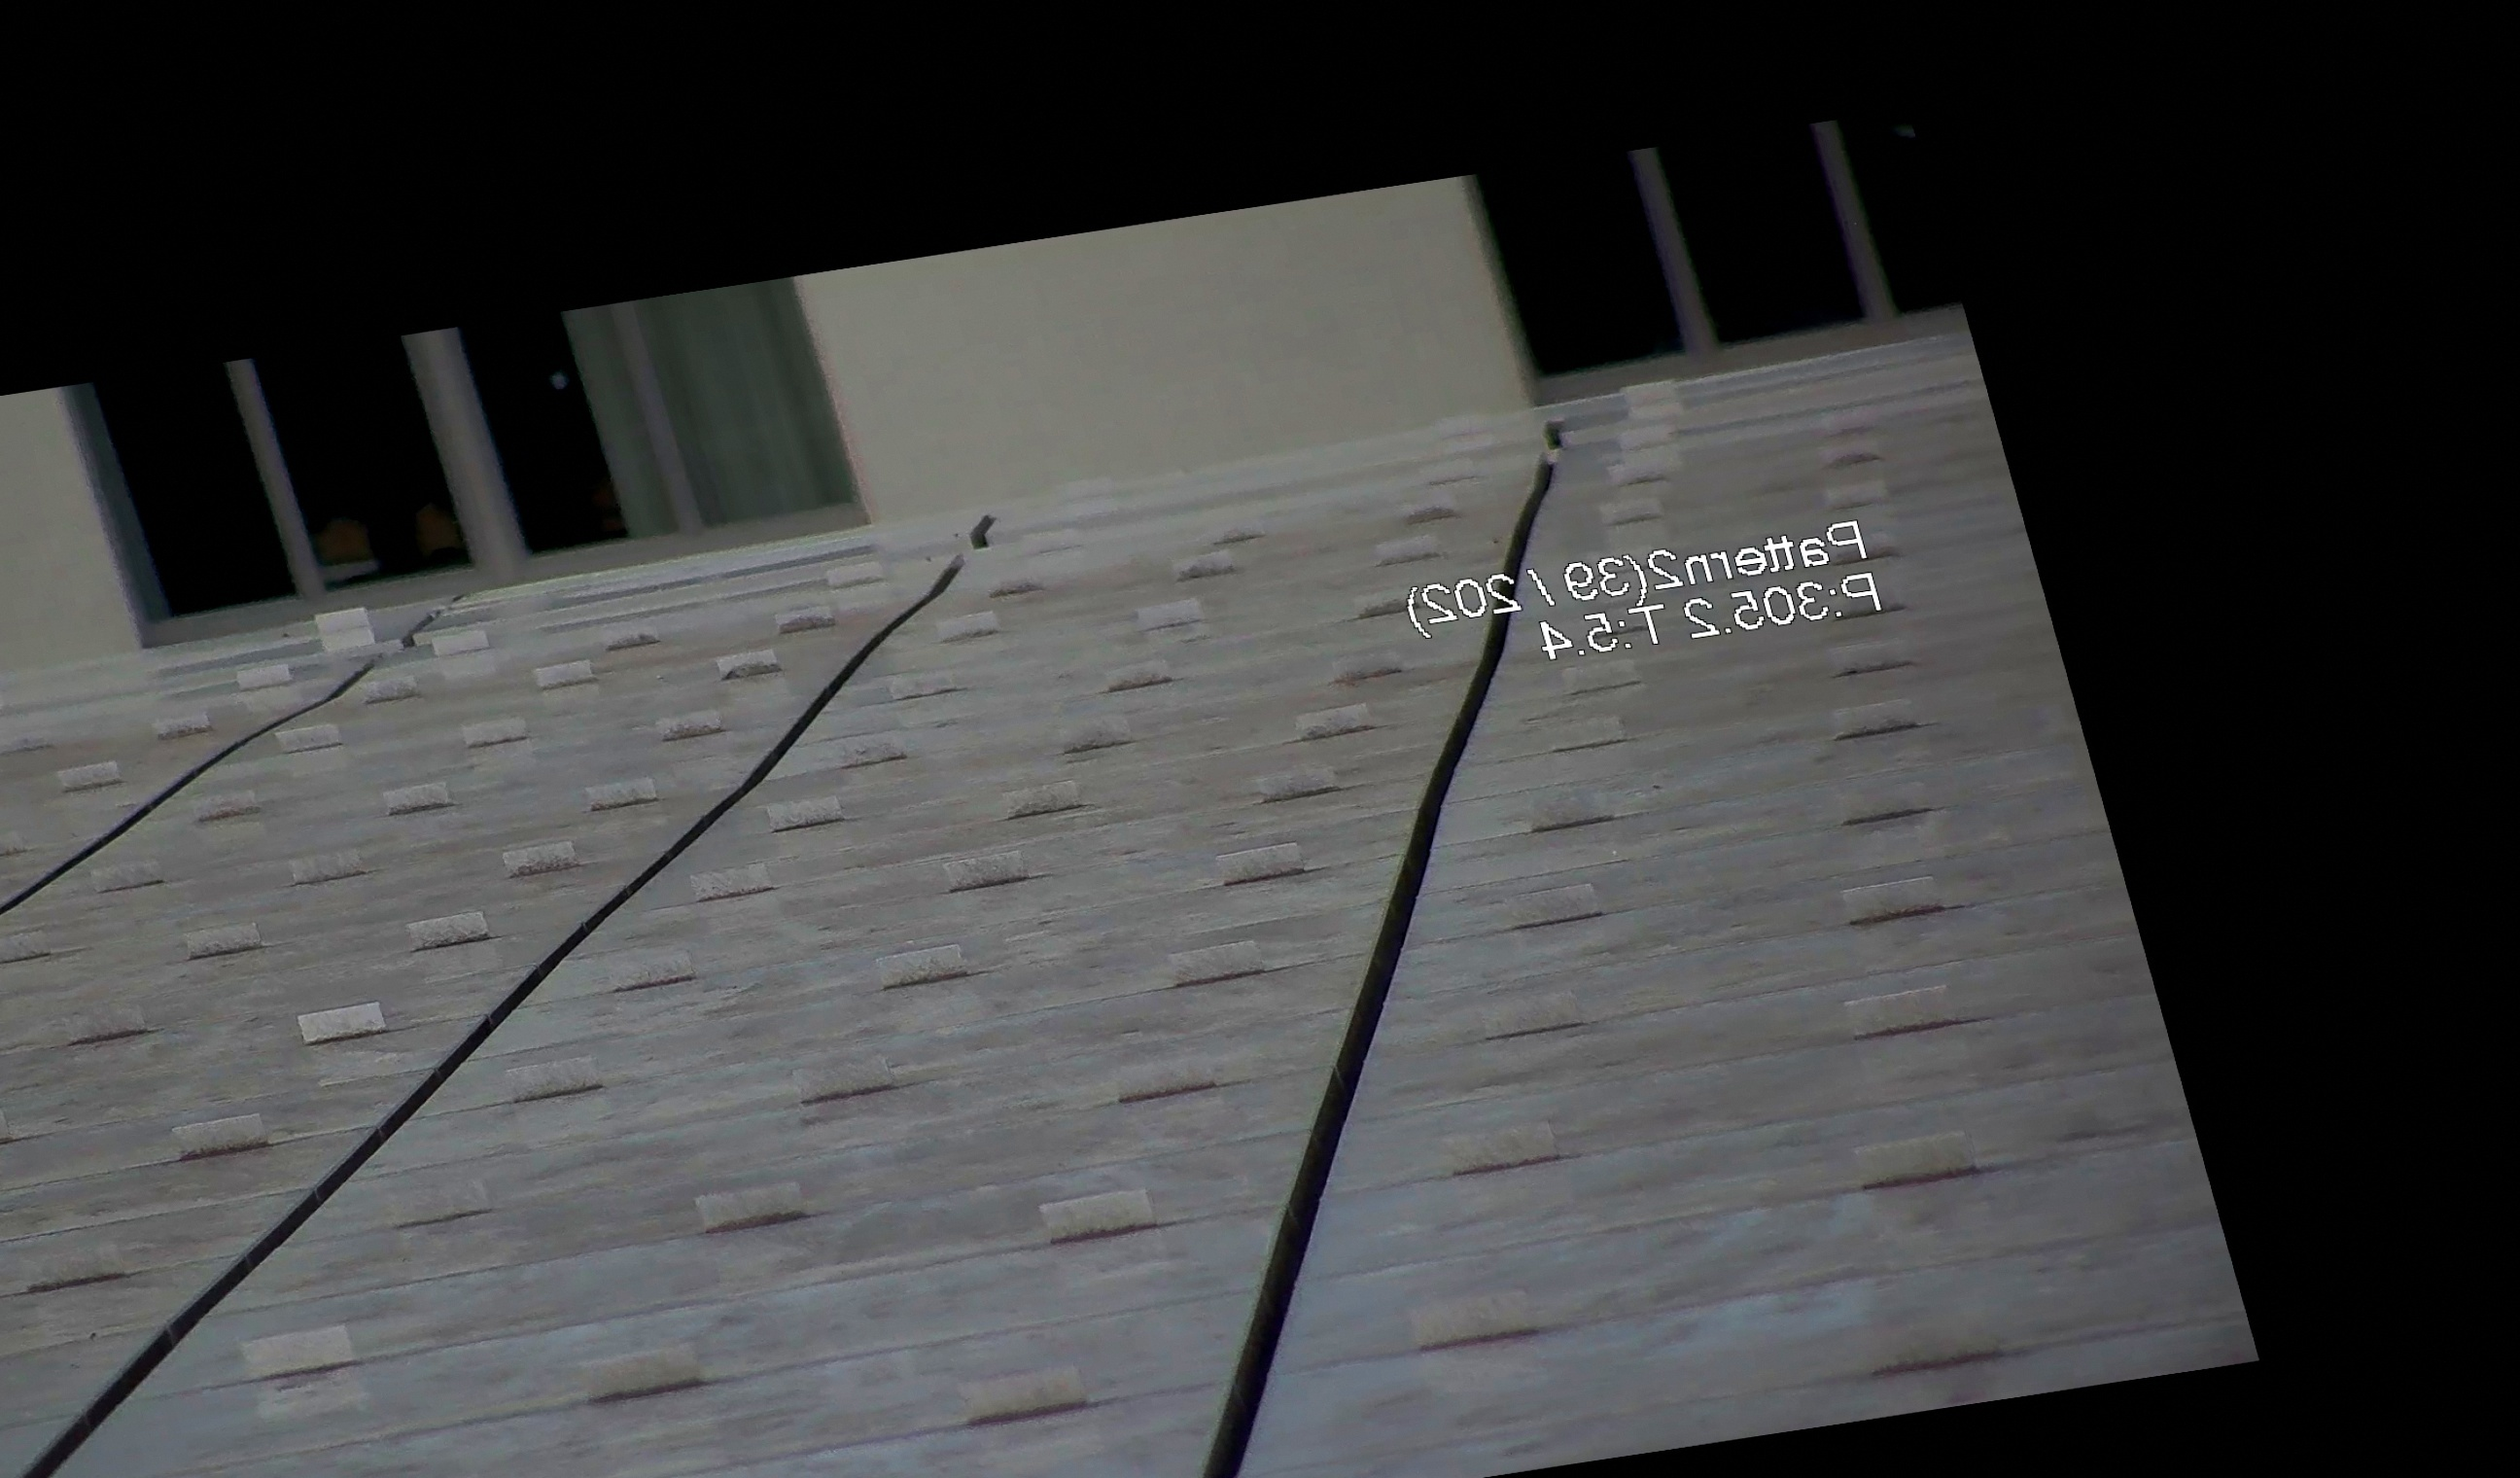Other: (1468, 415, 1637, 604)
